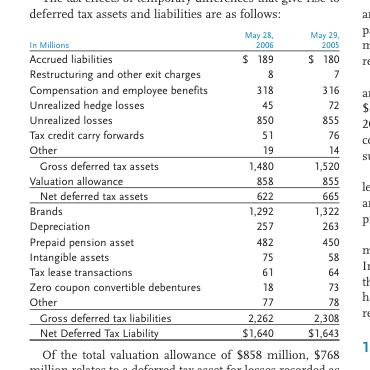table: (28, 28, 338, 338)
table column: (28, 28, 224, 338), (224, 28, 290, 338), (290, 28, 338, 338)
table column header: (28, 28, 338, 50)
table row: (28, 28, 338, 50), (28, 50, 338, 66), (28, 126, 338, 142), (28, 202, 338, 218), (28, 278, 338, 294), (28, 66, 338, 81), (28, 81, 338, 96), (28, 96, 338, 111), (28, 111, 338, 126), (28, 142, 338, 157), (28, 157, 338, 172), (28, 172, 338, 187), (28, 187, 338, 202), (28, 218, 338, 233), (28, 233, 338, 248), (28, 248, 338, 263), (28, 263, 338, 278), (28, 294, 338, 309), (28, 309, 338, 324), (28, 324, 338, 338)
